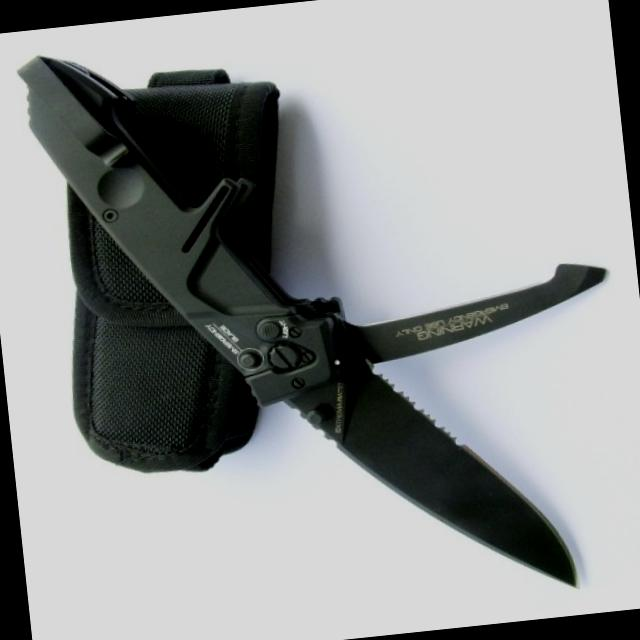knife: (278, 347, 589, 622)
